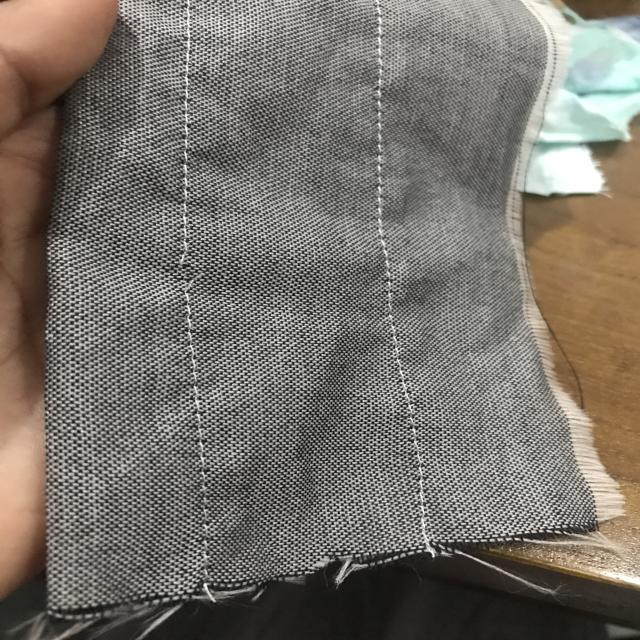broken: (162, 238, 214, 304)
